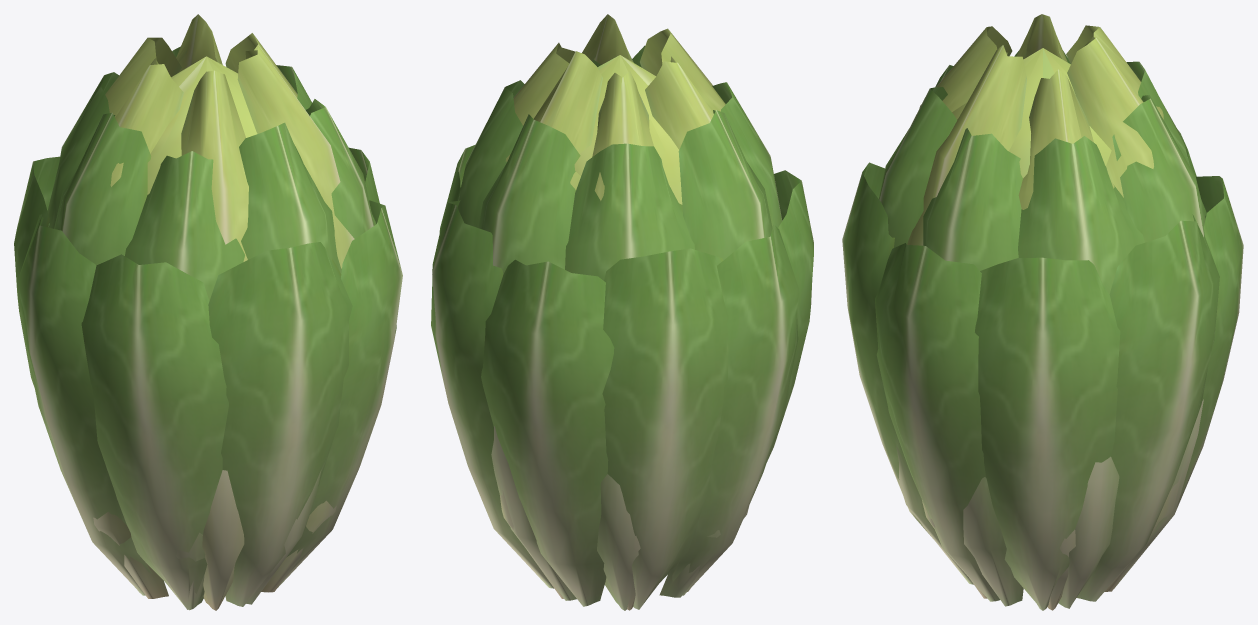
The picture shows the model from 3 angles, left to right: view 1: azimuth 30°, elevation 25°; view 2: azimuth 150°, elevation 25°; view 3: azimuth 270°, elevation 25°; orthographic projection.
Parts seen in each view (by area): view 1: cabbage; view 2: cabbage; view 3: cabbage.
Part boxes in pixels (x1,y1,x2,y2): cabbage: [14, 14, 402, 610]; cabbage: [431, 14, 813, 610]; cabbage: [842, 14, 1243, 610].
Size of the model in its own units: 0.1842 by 0.28 by 0.185.
Materials: 1 (1 with a texture image).
